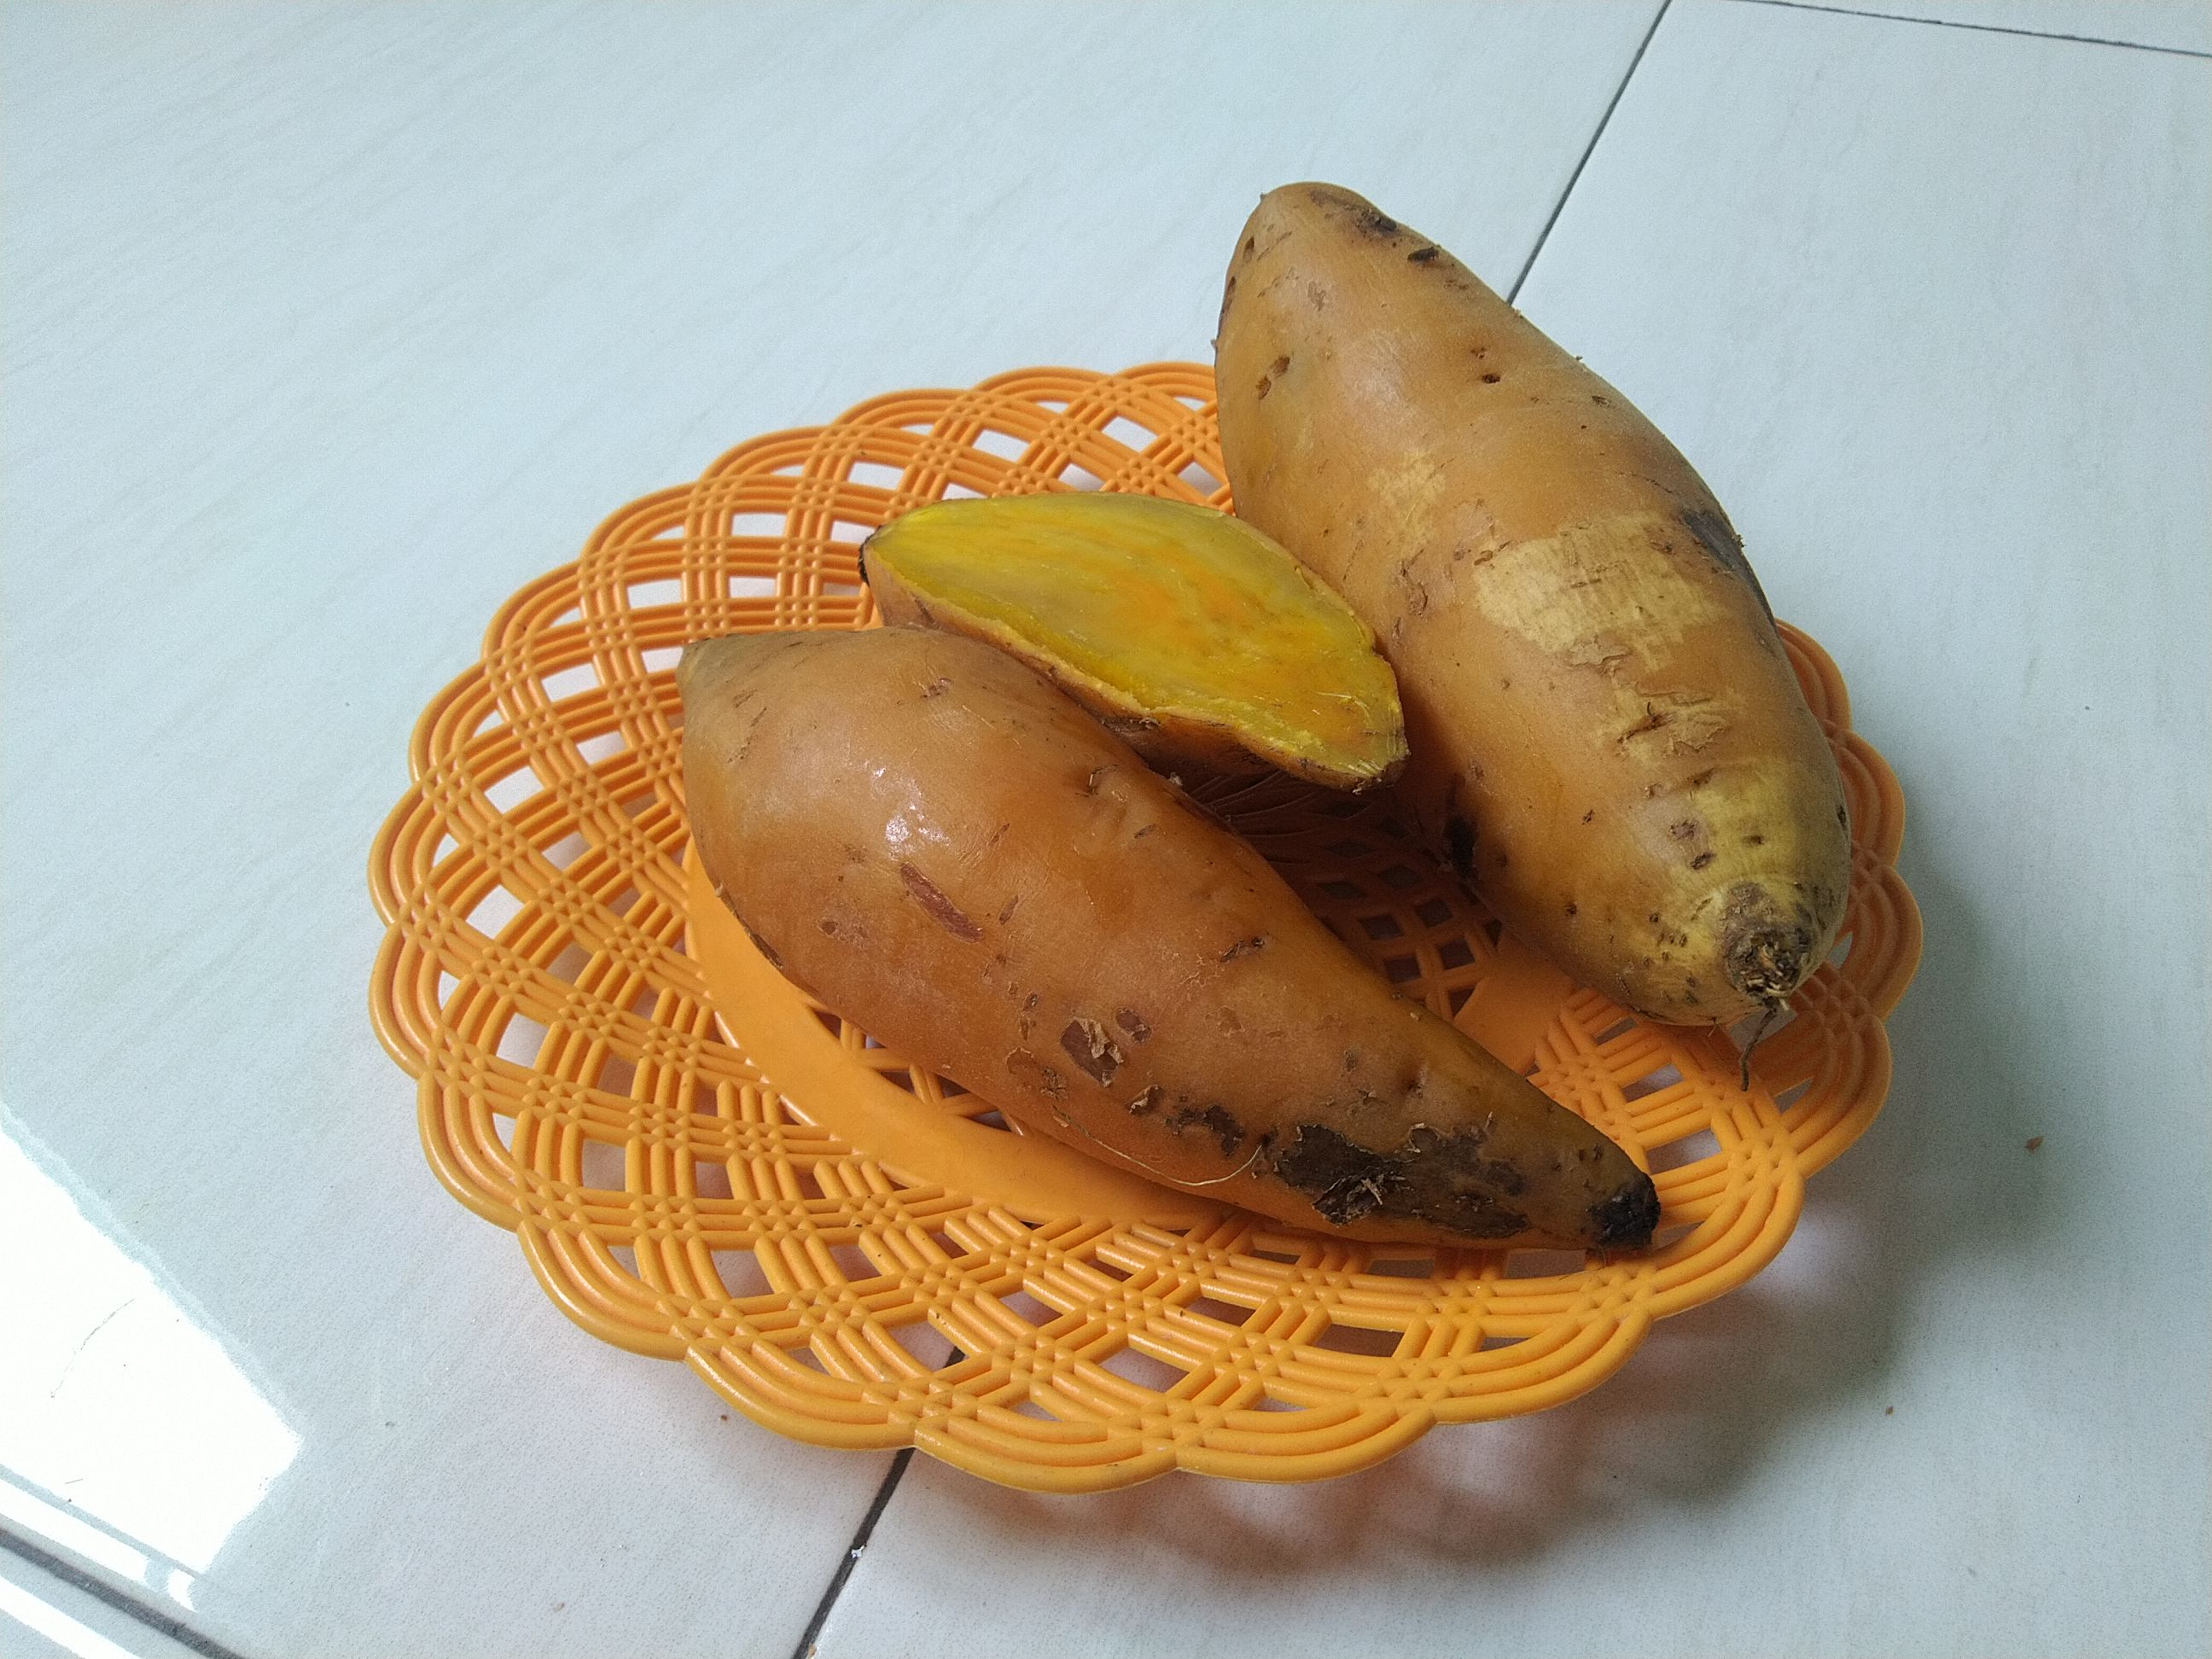ubi cilembu: (660, 171, 1862, 1291), (658, 624, 1658, 1303), (1223, 178, 1874, 1042), (850, 486, 1426, 800)
